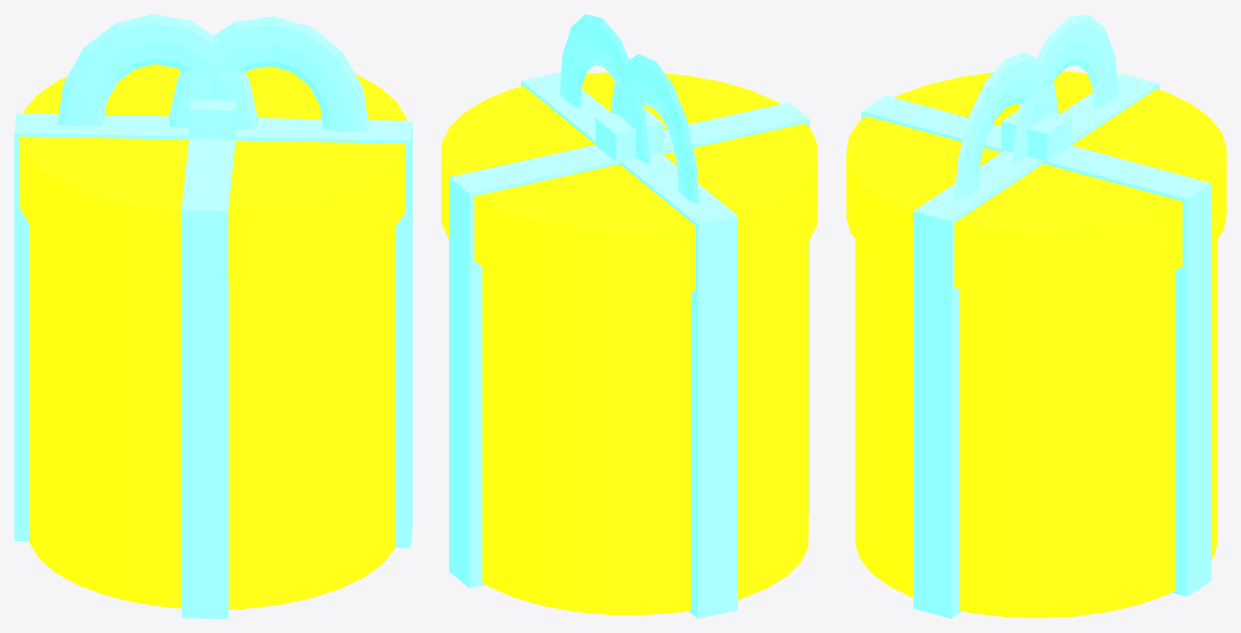
File: Tmpl_Round_Root_213.glb
3 renders of one model, left to right at view 1: azimuth 30°, elevation 25°; view 2: azimuth 150°, elevation 25°; view 3: azimuth 270°, elevation 25°, orthographic. The views are drawn at different scales.
Parts seen in each view (by area): view 1: Tmpl_Round_Base.211, Tmpl_Round_Lid.211, Tmpl_Round_Ribbon_Y.211, Tmpl_Round_Ribbon_X.211, Tmpl_Round_BowL.211, Tmpl_Round_BowR.211, Tmpl_Round_BowKnot.211; view 2: Tmpl_Round_Base.211, Tmpl_Round_Lid.211, Tmpl_Round_Ribbon_X.211, Tmpl_Round_Ribbon_Y.211, Tmpl_Round_BowR.211, Tmpl_Round_BowL.211, Tmpl_Round_BowKnot.211; view 3: Tmpl_Round_Base.211, Tmpl_Round_Lid.211, Tmpl_Round_Ribbon_X.211, Tmpl_Round_Ribbon_Y.211, Tmpl_Round_BowL.211, Tmpl_Round_BowR.211, Tmpl_Round_BowKnot.211.
Part boxes in pixels (box(x1,y1,x2,y2)): Tmpl_Round_Base.211: box(29, 224, 395, 609); Tmpl_Round_Lid.211: box(19, 64, 406, 278); Tmpl_Round_Ribbon_Y.211: box(181, 138, 235, 618); Tmpl_Round_Ribbon_X.211: box(14, 113, 412, 548); Tmpl_Round_BowL.211: box(57, 14, 258, 129); Tmpl_Round_BowR.211: box(168, 16, 369, 131); Tmpl_Round_BowKnot.211: box(189, 100, 236, 141); Tmpl_Round_Base.211: box(482, 241, 808, 614); Tmpl_Round_Lid.211: box(441, 72, 817, 295); Tmpl_Round_Ribbon_X.211: box(521, 72, 737, 618); Tmpl_Round_Ribbon_Y.211: box(449, 102, 809, 588); Tmpl_Round_BowR.211: box(560, 14, 649, 163); Tmpl_Round_BowL.211: box(610, 54, 698, 204); Tmpl_Round_BowKnot.211: box(595, 108, 663, 164); Tmpl_Round_Base.211: box(855, 239, 1217, 618); Tmpl_Round_Lid.211: box(846, 71, 1226, 296); Tmpl_Round_Ribbon_X.211: box(913, 73, 1159, 618); Tmpl_Round_Ribbon_Y.211: box(861, 95, 1211, 596); Tmpl_Round_BowL.211: box(1013, 14, 1118, 162); Tmpl_Round_BowR.211: box(954, 52, 1058, 201); Tmpl_Round_BowKnot.211: box(1001, 111, 1071, 164).
Size of the model in its own units: 0.7374 by 1.08 by 0.7374.
